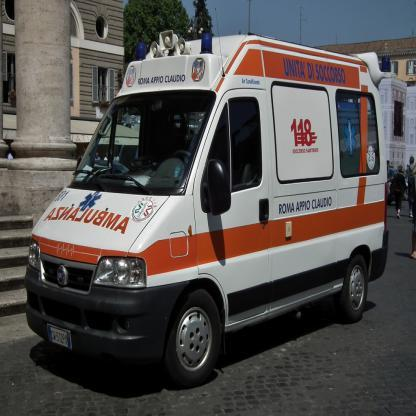Ambulance - v1 Ambulance last generate: (23, 5, 390, 382)
